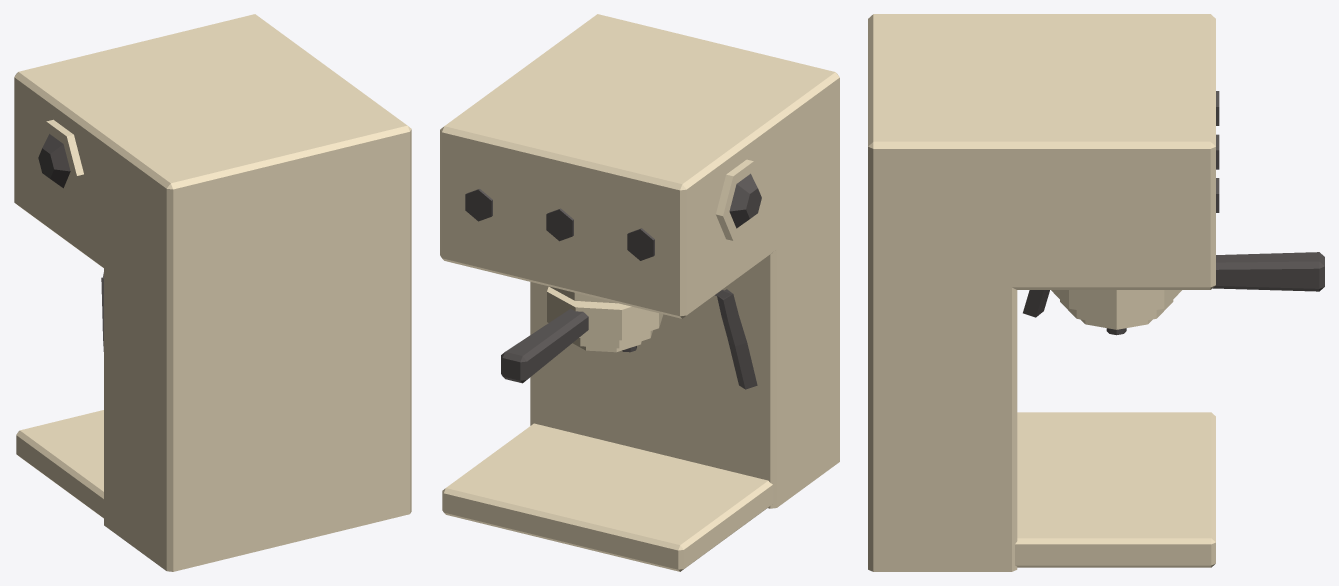
The model's file is CoffeeMachine1.glb.
3 views of the same model, side by side, from view 1: azimuth 30°, elevation 25°; view 2: azimuth 150°, elevation 25°; view 3: azimuth 270°, elevation 25° (orthographic). The views are drawn at different scales.
Visible parts, largest first — view 1: CoffeeMachine1, SteamKnob1CoffeeMachine1; view 2: CoffeeMachine1, FilterHolder1CoffeeMachine1, SteamPipe1CoffeeMachine1, SteamKnob1CoffeeMachine1; view 3: CoffeeMachine1, FilterHolder1CoffeeMachine1.
Part boxes in pixels (bbox=[...]): CoffeeMachine1: bbox=[14, 14, 411, 571]; SteamKnob1CoffeeMachine1: bbox=[38, 134, 70, 188]; CoffeeMachine1: bbox=[440, 14, 839, 571]; FilterHolder1CoffeeMachine1: bbox=[501, 308, 588, 383]; SteamPipe1CoffeeMachine1: bbox=[715, 289, 757, 389]; SteamKnob1CoffeeMachine1: bbox=[729, 173, 761, 228]; CoffeeMachine1: bbox=[868, 14, 1219, 571]; FilterHolder1CoffeeMachine1: bbox=[1212, 252, 1324, 291].
Size of the model in its own units: 0.6518 by 0.9172 by 0.8874.
